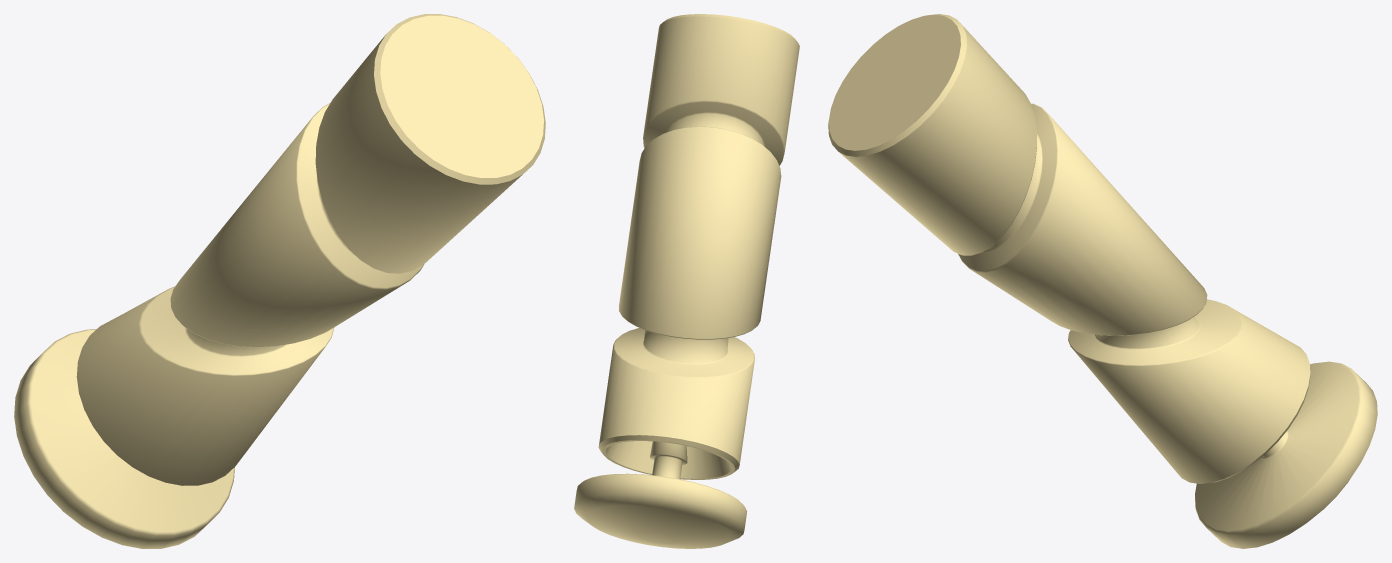
File: NewTour.fbx
3 renders of one model, left to right at view 1: azimuth 30°, elevation 25°; view 2: azimuth 150°, elevation 25°; view 3: azimuth 270°, elevation 25°, orthographic. The views are drawn at different scales.
Visible parts, largest first — view 1: tourFusee; view 2: tourFusee; view 3: tourFusee.
Part boxes in pixels (box(x1,y1,x2,y2)): tourFusee: box(14, 14, 545, 548); tourFusee: box(574, 14, 799, 548); tourFusee: box(828, 14, 1377, 548).
Bounding box in the file's own units: 207 × 392 × 356.
